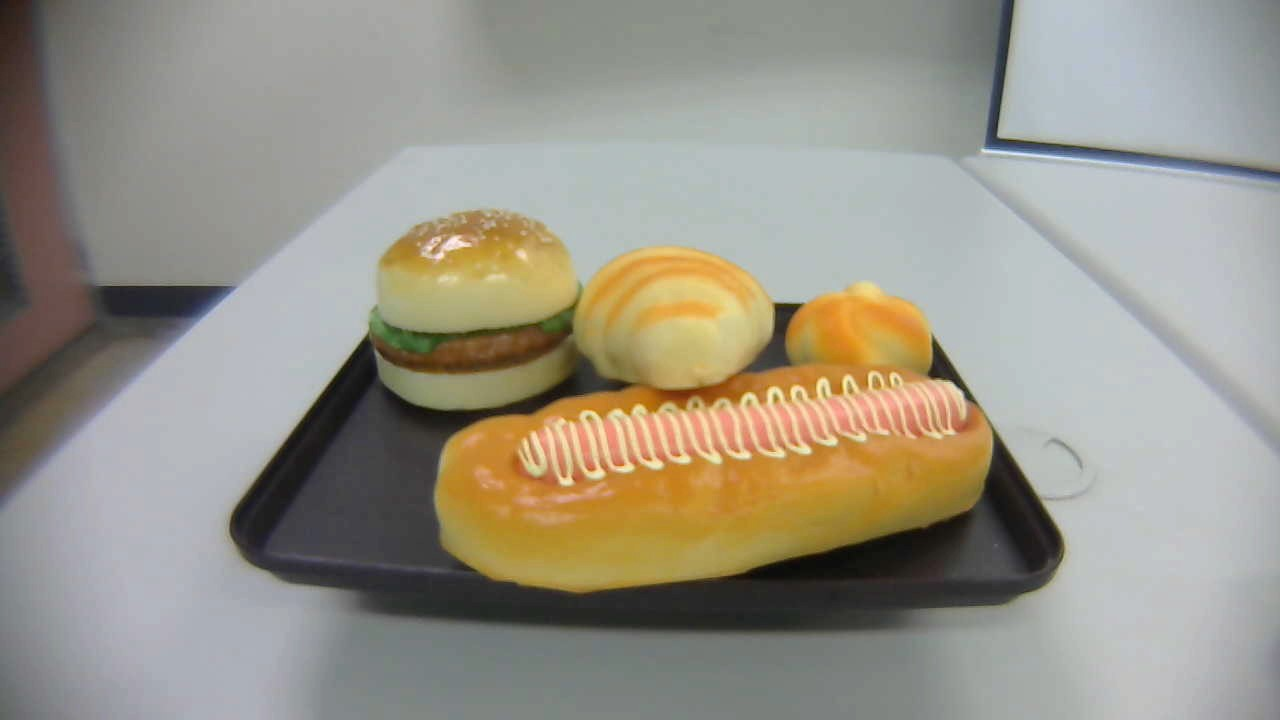croissant: (572, 246, 776, 391)
hamburger: (367, 208, 587, 414)
hot dog: (433, 361, 994, 597)
twist bread: (786, 280, 934, 401)
